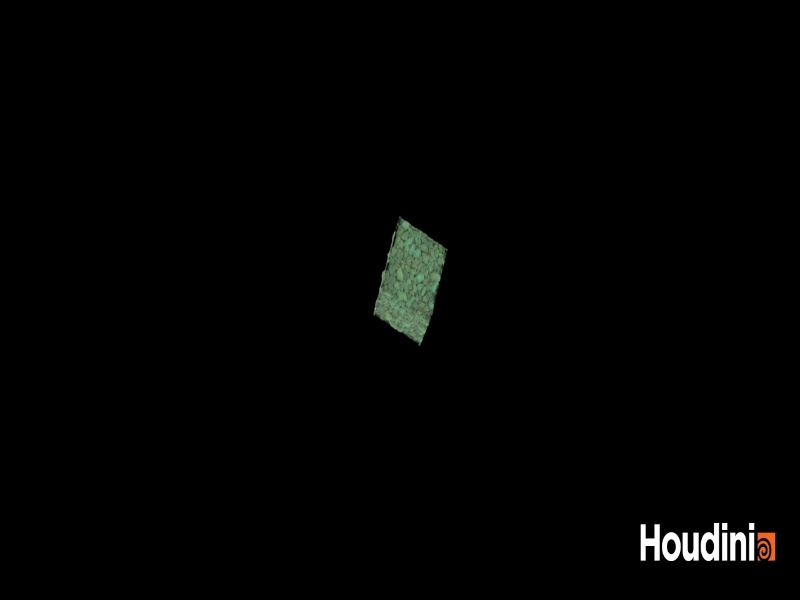waste: (362, 205, 457, 363)
